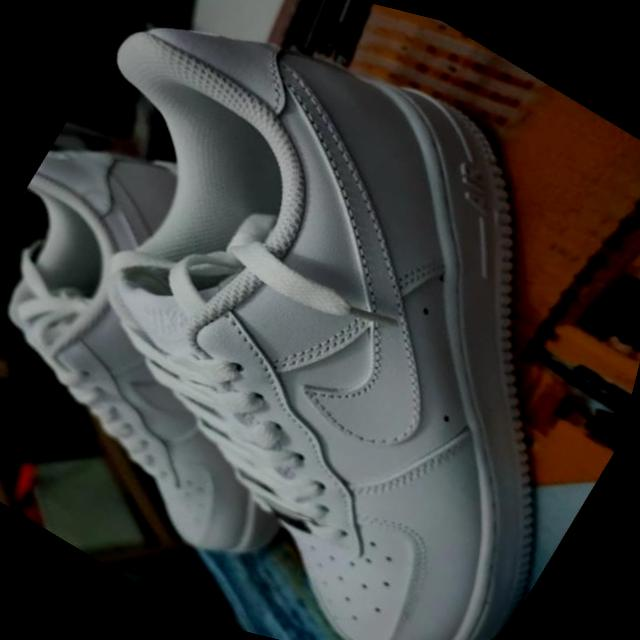nike_original_airforce: (0, 0, 640, 640), (0, 94, 458, 611)
